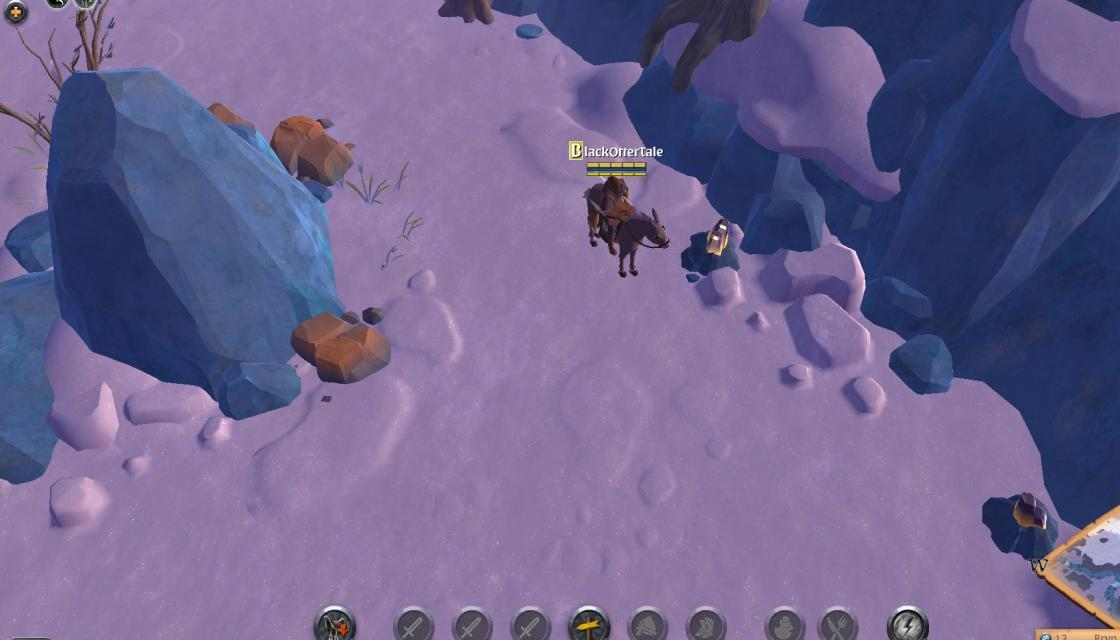copperore: (971, 484, 1059, 558), (680, 218, 743, 274)
limestone: (286, 309, 393, 384), (264, 110, 357, 184), (206, 97, 250, 136)
